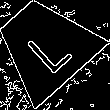L_NW: (16, 16, 73, 75)
